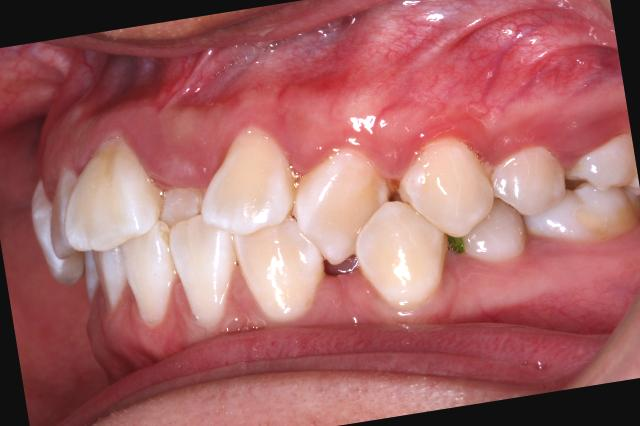canine class I: (223, 125, 464, 334)
molar class III 1/2: (504, 126, 640, 257)
